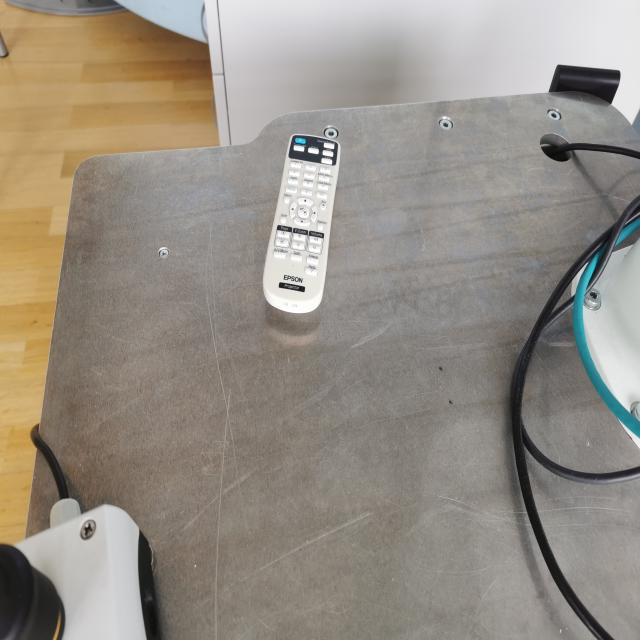remote: (262, 131, 343, 313)
